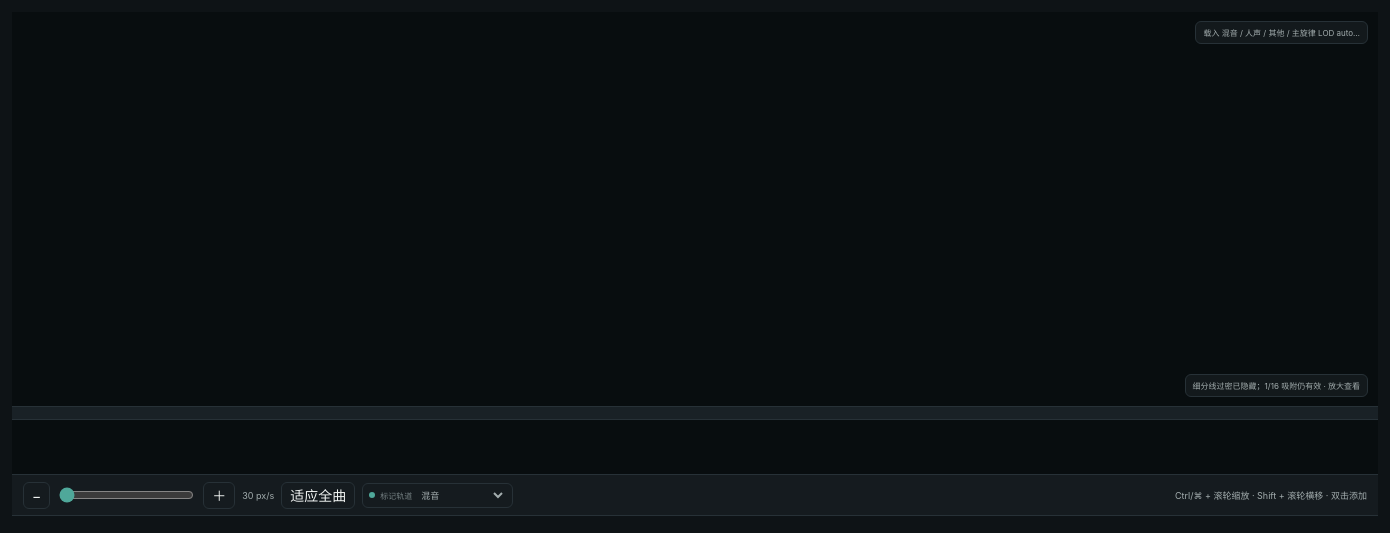
TimelineCanvas tooltip › selects the owning stem when clicking a colored Focus segment
The width and height of the screenshot is (1390, 533).
Press the mouse on the drawing with test id "timeline-canvas" at [695, 209], box x1=12 y1=12 x2=1378 y2=406
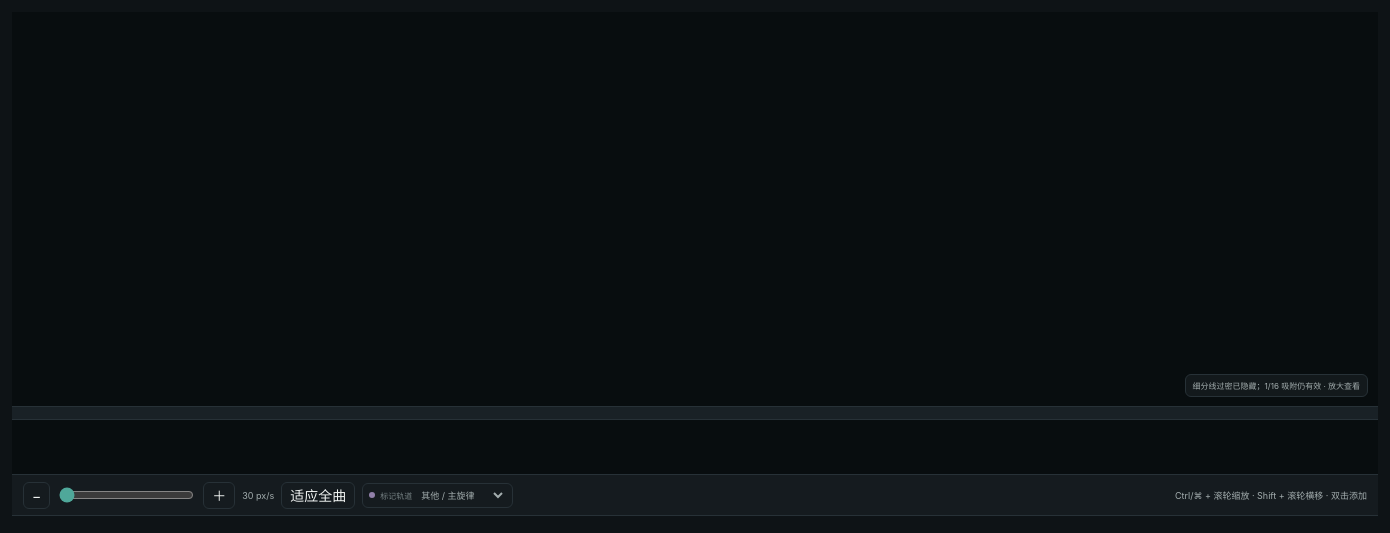
Now the dropdown named "当前标记轨道" shows "其他 / 主旋律", box x1=417 y1=488 x2=506 y2=502
